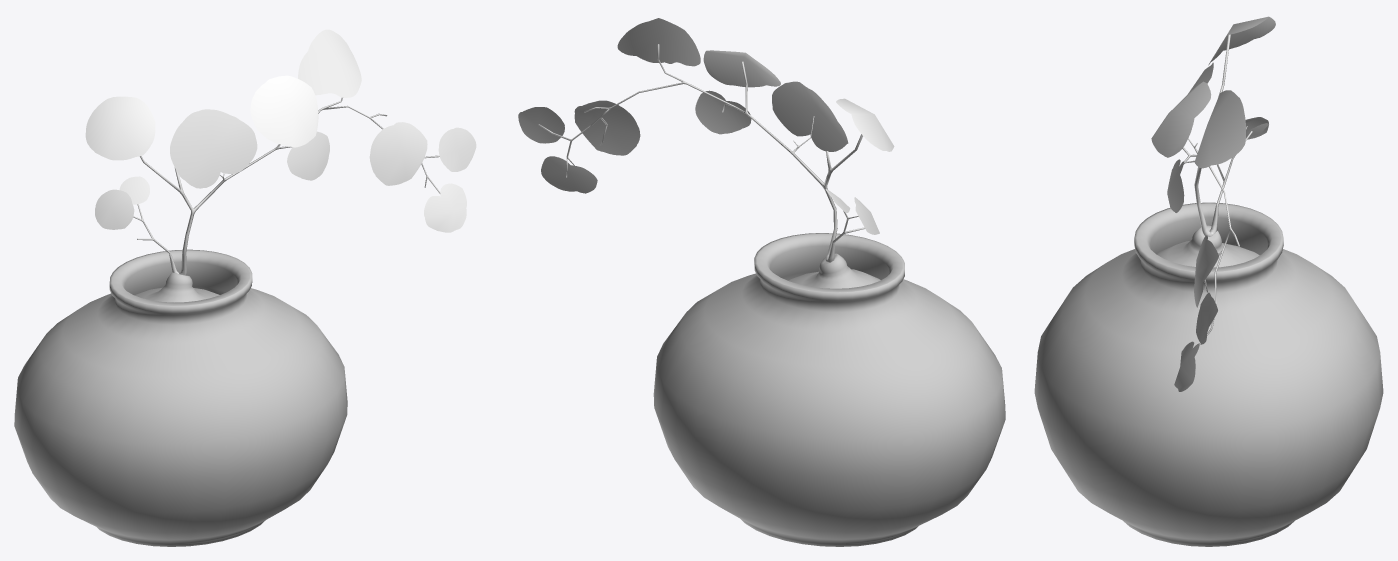
Rendered from Env_Plants_StephaniaErecta_01.fbx.
3 views of the same model, side by side, from view 1: azimuth 30°, elevation 25°; view 2: azimuth 150°, elevation 25°; view 3: azimuth 270°, elevation 25° (orthographic). The views are drawn at different scales.
Visible parts, largest first — view 1: Env_Lounge_SmallVase_01, Env_Plants_StephErectaLeaf_01.010, Env_Plants_StephErectaLeaf_01.011, Env_Plants_StephErectaLeaf_01.014, Env_Plants_StephErectaLeaf_01.013, Env_Plants_StephErectaLeaf_01.015, Env_Plants_StephErectaLeaf_01.017, Env_Plants_StephErectaStem_01.001, Env_Plants_StephErectaLeaf_01.012, Env_Plants_StephErectaLeaf_01.016, Env_Plants_StephErectaLeaf_01.018, Env_Plants_StephErectaBase_01.001 (+1 smaller); view 2: Env_Lounge_SmallVase_01, Env_Plants_StephErectaLeaf_01.010, Env_Plants_StephErectaLeaf_01.013, Env_Plants_StephErectaLeaf_01.015, Env_Plants_StephErectaStem_01.001, Env_Plants_StephErectaLeaf_01.011, Env_Plants_StephErectaLeaf_01.012, Env_Plants_StephErectaBase_01.001, Env_Plants_StephErectaLeaf_01.017, Env_Plants_StephErectaLeaf_01.016, Env_Plants_StephErectaLeaf_01.014; view 3: Env_Lounge_SmallVase_01, Env_Plants_StephErectaLeaf_01.013, Env_Plants_StephErectaLeaf_01.011, Env_Plants_StephErectaBase_01.001, Env_Plants_StephErectaStem_01.001, Env_Plants_StephErectaLeaf_01.014, Env_Plants_StephErectaLeaf_01.015, Env_Plants_StephErectaLeaf_01.017, Env_Plants_StephErectaLeaf_01.016, Env_Plants_StephErectaLeaf_01.012.
Boxes of the visible parts, <box> form: Env_Lounge_SmallVase_01: <box>14,249,347,546</box>; Env_Plants_StephErectaLeaf_01.010: <box>170,109,257,188</box>; Env_Plants_StephErectaLeaf_01.011: <box>250,75,318,147</box>; Env_Plants_StephErectaLeaf_01.014: <box>85,96,155,160</box>; Env_Plants_StephErectaLeaf_01.013: <box>298,29,361,97</box>; Env_Plants_StephErectaLeaf_01.015: <box>369,122,427,185</box>; Env_Plants_StephErectaLeaf_01.017: <box>424,183,466,232</box>; Env_Plants_StephErectaStem_01.001: <box>133,97,440,275</box>; Env_Plants_StephErectaLeaf_01.012: <box>287,131,329,180</box>; Env_Plants_StephErectaLeaf_01.016: <box>438,127,476,171</box>; Env_Plants_StephErectaLeaf_01.018: <box>95,189,134,229</box>; Env_Plants_StephErectaBase_01.001: <box>135,272,219,302</box>; Env_Lounge_SmallVase_01: <box>653,233,1005,546</box>; Env_Plants_StephErectaLeaf_01.010: <box>772,81,848,151</box>; Env_Plants_StephErectaLeaf_01.013: <box>617,18,700,66</box>; Env_Plants_StephErectaLeaf_01.015: <box>574,100,640,155</box>; Env_Plants_StephErectaStem_01.001: <box>538,44,864,262</box>; Env_Plants_StephErectaLeaf_01.011: <box>703,50,780,87</box>; Env_Plants_StephErectaLeaf_01.012: <box>695,90,751,134</box>; Env_Plants_StephErectaBase_01.001: <box>788,253,880,288</box>; Env_Plants_StephErectaLeaf_01.017: <box>541,156,597,193</box>; Env_Plants_StephErectaLeaf_01.016: <box>518,107,564,143</box>; Env_Plants_StephErectaLeaf_01.014: <box>836,98,894,151</box>; Env_Lounge_SmallVase_01: <box>1034,202,1383,546</box>; Env_Plants_StephErectaLeaf_01.013: <box>1194,90,1245,168</box>; Env_Plants_StephErectaLeaf_01.011: <box>1151,81,1211,157</box>; Env_Plants_StephErectaBase_01.001: <box>1156,225,1259,267</box>; Env_Plants_StephErectaStem_01.001: <box>1182,34,1252,345</box>; Env_Plants_StephErectaLeaf_01.014: <box>1208,16,1275,65</box>; Env_Plants_StephErectaLeaf_01.015: <box>1194,235,1218,307</box>; Env_Plants_StephErectaLeaf_01.017: <box>1174,341,1199,391</box>; Env_Plants_StephErectaLeaf_01.016: <box>1196,292,1217,344</box>; Env_Plants_StephErectaLeaf_01.012: <box>1167,159,1184,212</box>.
Size of the model in its own units: 52.79 by 49.6 by 31.28.
